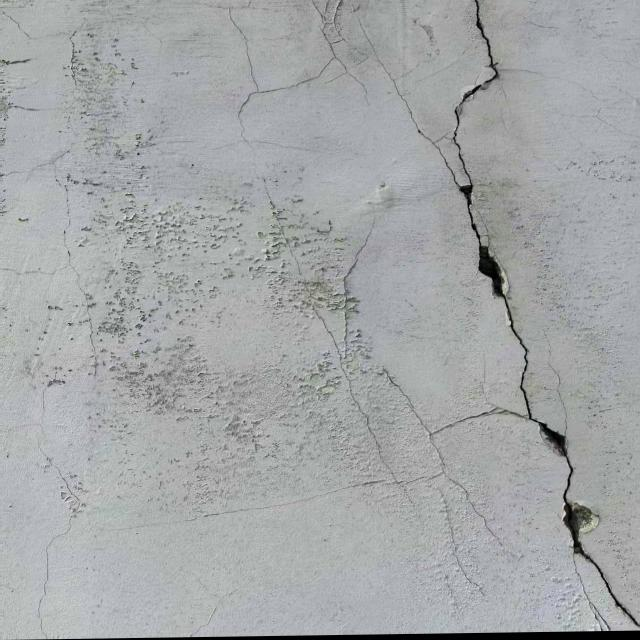crack: (420, 0, 632, 626), (214, 4, 424, 156)
